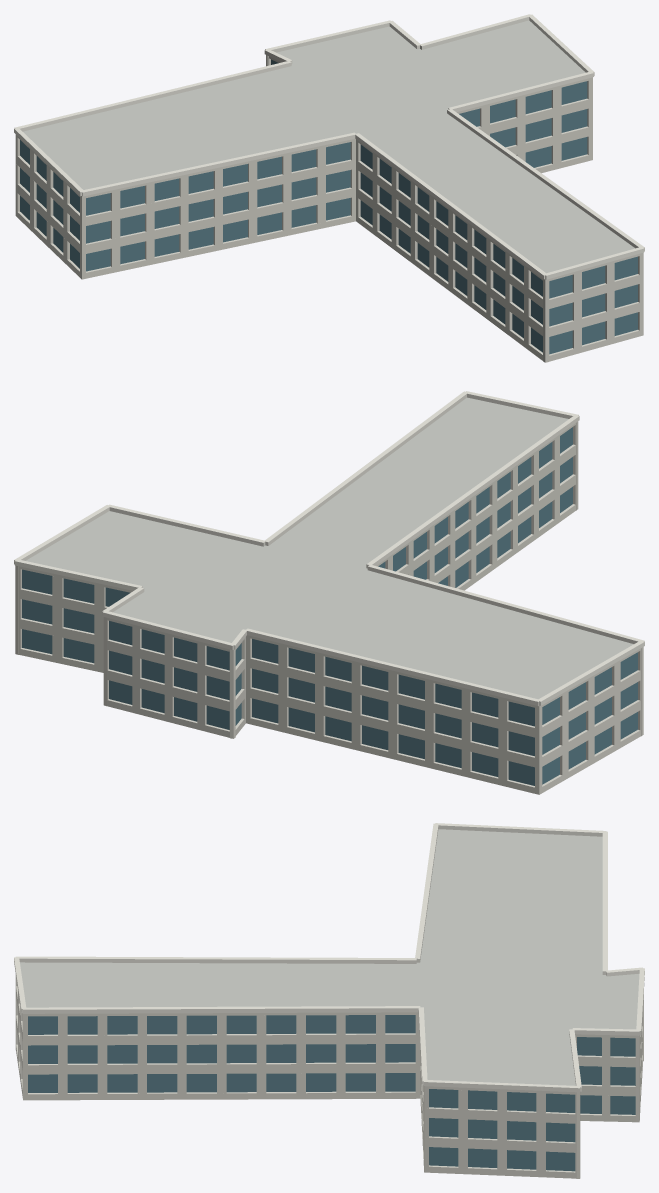
File: sb_1556514392.far.glb
3 renders of one model, top to bottom at view 1: azimuth 30°, elevation 25°; view 2: azimuth 150°, elevation 25°; view 3: azimuth 270°, elevation 25°, orthographic. The views are drawn at different scales.
Parts seen in each view (by area): view 1: roof, wall, glass, trim; view 2: roof, wall, glass, trim; view 3: roof, wall, glass, trim.
Part boxes in pixels (box(x1,y1,x2,y2)): roof: box(23, 20, 634, 273); wall: box(15, 55, 643, 362); glass: box(20, 59, 637, 354); trim: box(14, 14, 644, 279); roof: box(26, 397, 633, 699); wall: box(15, 421, 643, 794); glass: box(22, 427, 637, 785); trim: box(14, 391, 644, 705); roof: box(20, 829, 639, 1085); wall: box(15, 974, 643, 1178); glass: box(28, 1015, 635, 1171); trim: box(14, 823, 644, 1092).
Size of the model in its own units: 60.64 by 9.74 by 60.98.
